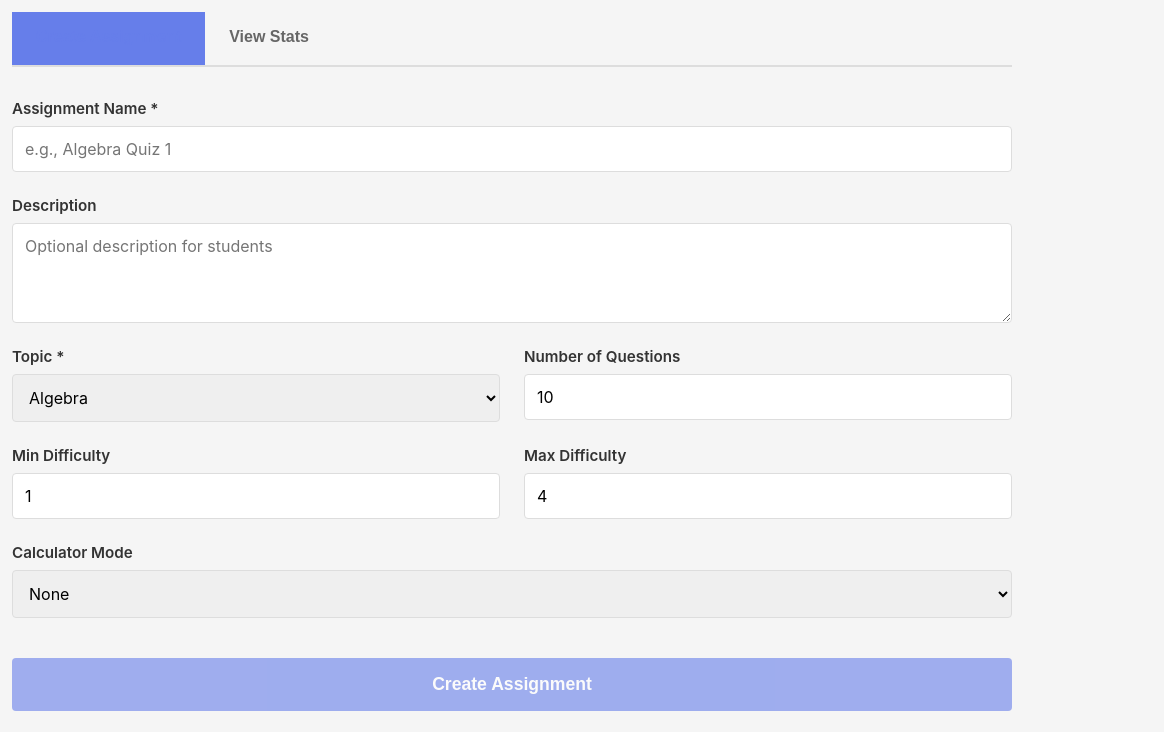
Scenario: TeacherAssignments Component › Stats Tab › renders stats form
Note: Click stats tab
Step 1. Click the button "View Stats" → (269, 38), box [205, 12, 333, 65]
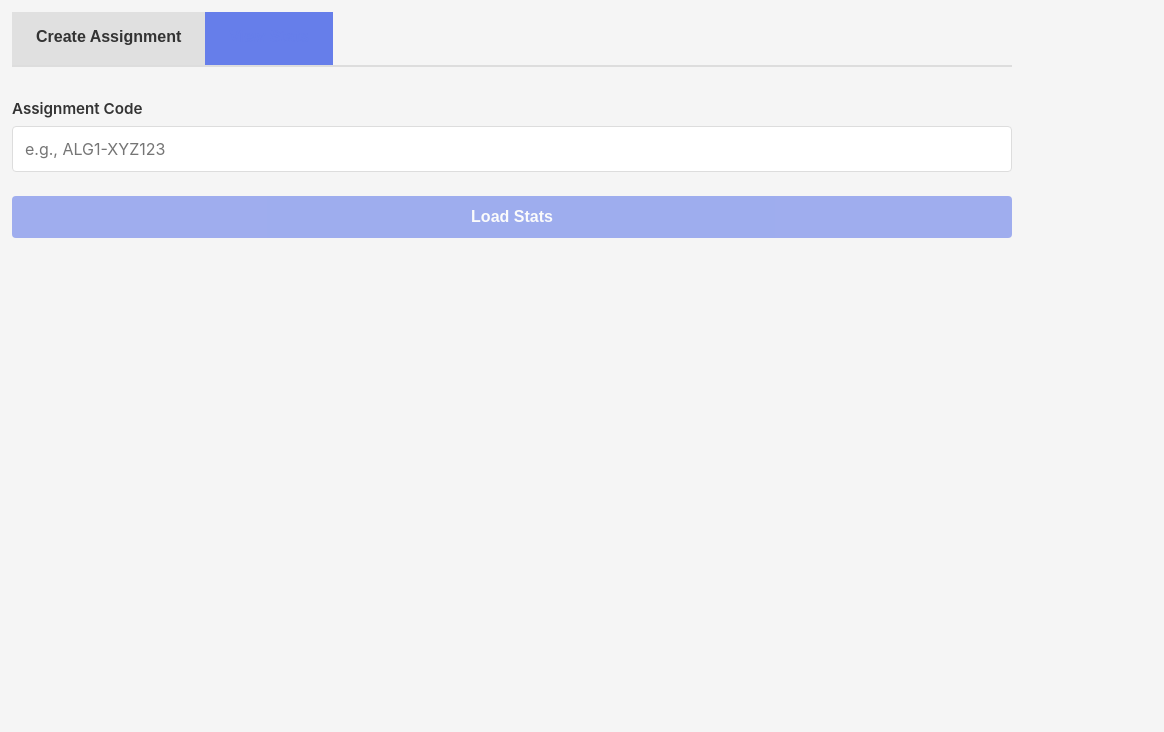
Expected: the field labelled "Assignment Code" is shown, [12, 126, 1012, 172]
Expected: the button "Load Stats" is shown, [12, 196, 1012, 238]
